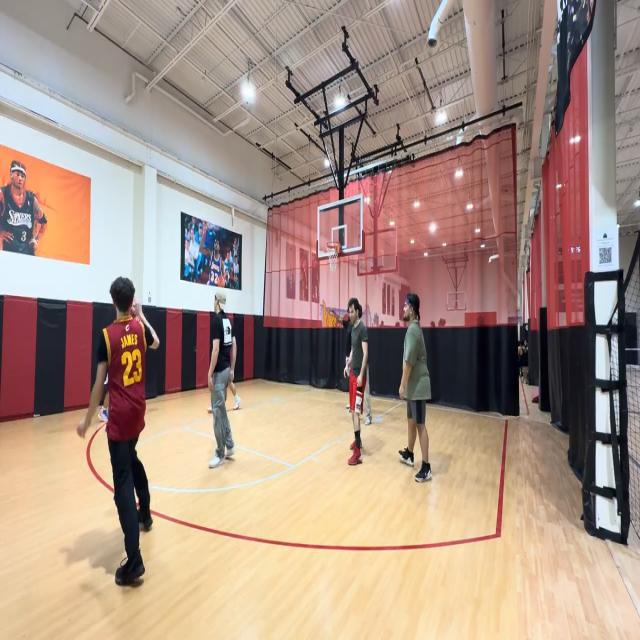Basketball Rim: (325, 240, 340, 272)
Player: (74, 275, 160, 587), (397, 290, 433, 486), (342, 297, 372, 468), (207, 289, 236, 465)
